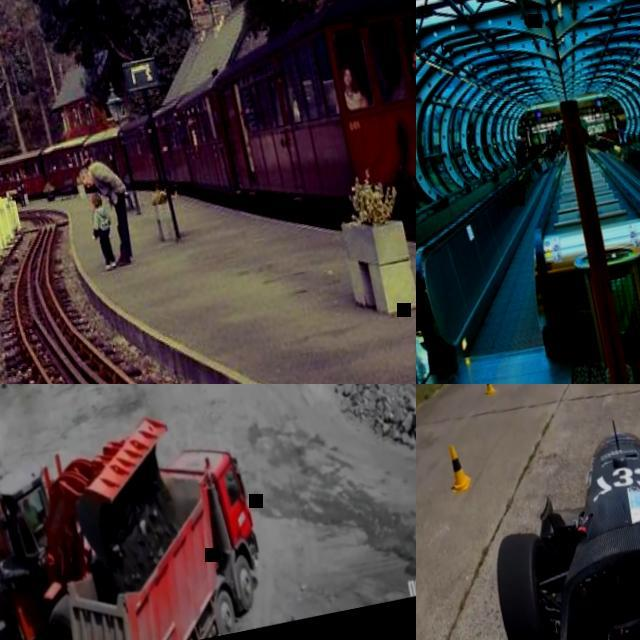Weapon: (66, 139, 191, 347)
